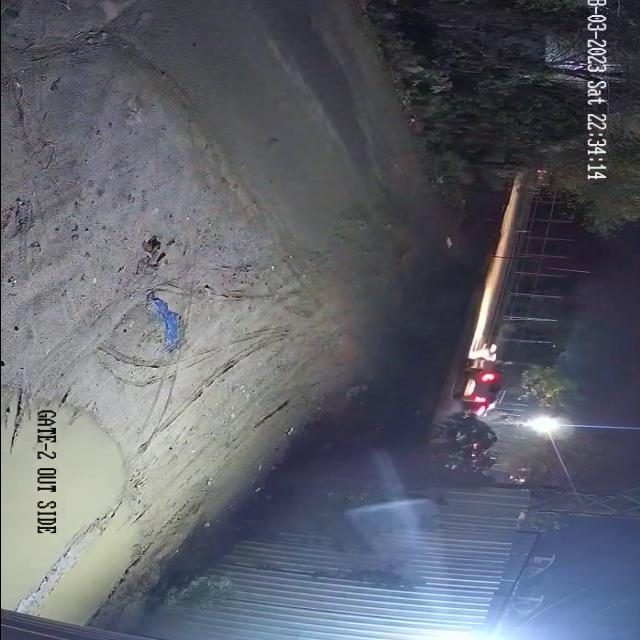accident: (451, 345, 515, 419)
